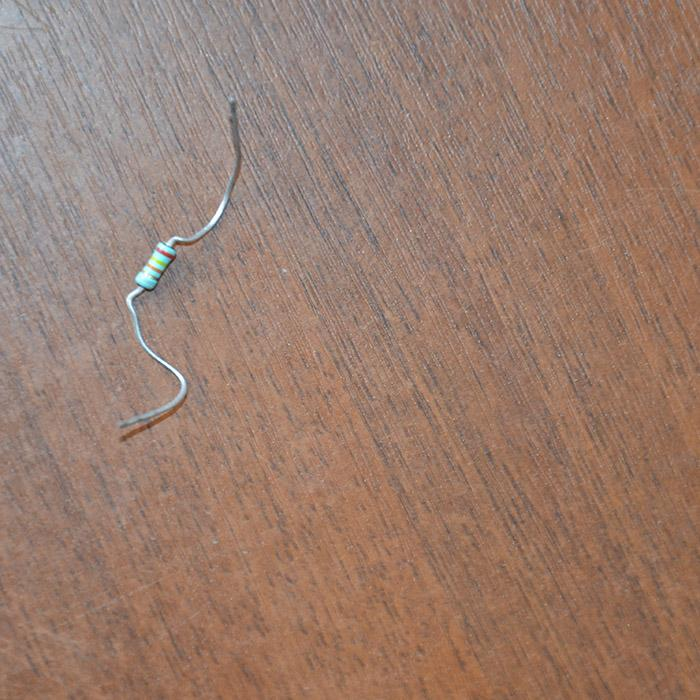resistor: (133, 240, 177, 292)
